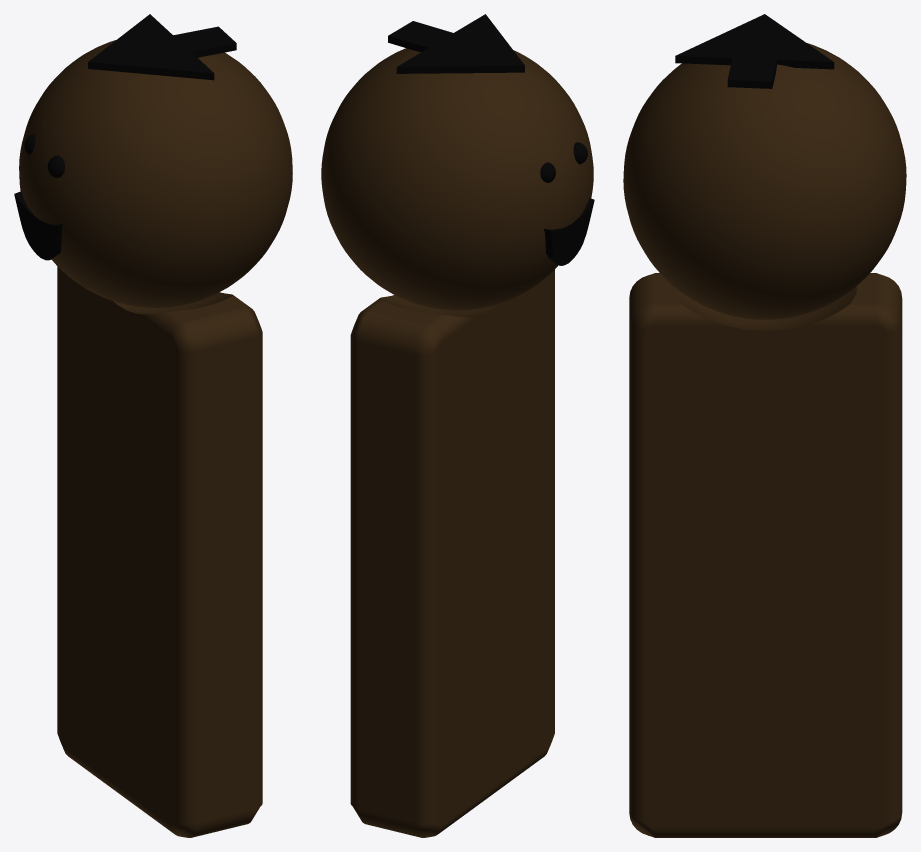
File: brown_happy.obj
3 views of the same model, side by side, from view 1: azimuth 30°, elevation 25°; view 2: azimuth 150°, elevation 25°; view 3: azimuth 270°, elevation 25° (orthographic). The views are drawn at different scales.
Visible parts, largest first — view 1: 1_Curve.002_Curve.004, 5.002_Curve.002_Curve.003_5.002_Curve.002_Curve.004; view 2: 1_Curve.002_Curve.004, 5.002_Curve.002_Curve.003_5.002_Curve.002_Curve.004; view 3: 1_Curve.002_Curve.004, 5.002_Curve.002_Curve.003_5.002_Curve.002_Curve.004.
Part boxes in pixels (left/top/right/bottom): 1_Curve.002_Curve.004: left=19, top=35, right=292, bottom=837; 5.002_Curve.002_Curve.003_5.002_Curve.002_Curve.004: left=14, top=14, right=236, bottom=260; 1_Curve.002_Curve.004: left=321, top=48, right=593, bottom=837; 5.002_Curve.002_Curve.003_5.002_Curve.002_Curve.004: left=388, top=14, right=594, bottom=265; 1_Curve.002_Curve.004: left=623, top=43, right=906, bottom=837; 5.002_Curve.002_Curve.003_5.002_Curve.002_Curve.004: left=675, top=14, right=834, bottom=88.
Size of the model in its own units: 0.1662 by 0.4993 by 0.1661.
